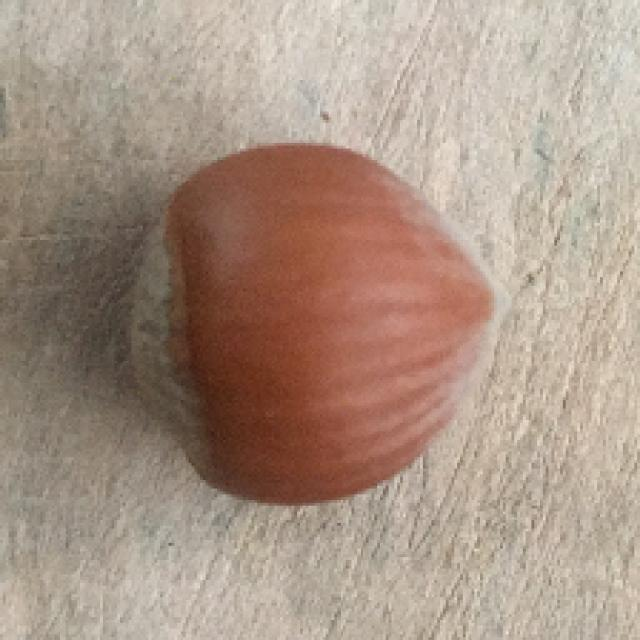QualityHazelnut: (121, 141, 507, 511)
